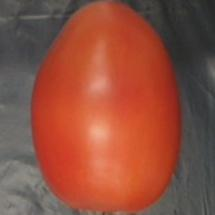unripe: (28, 0, 186, 215)
